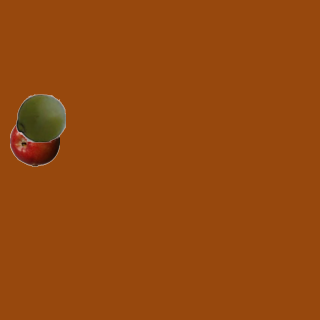Apple Braeburn: (9, 116, 59, 166)
Grape White 4: (15, 92, 65, 142)
